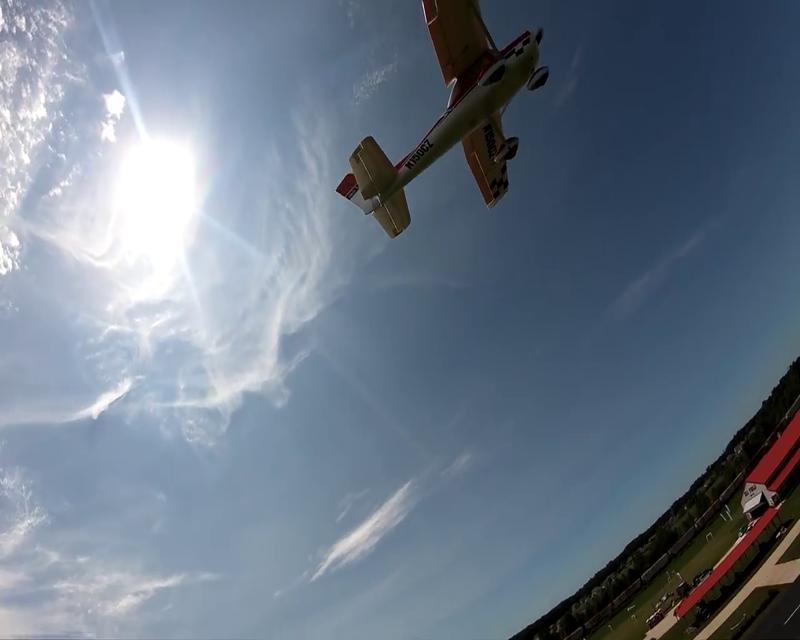UAV: (334, 0, 548, 239)
